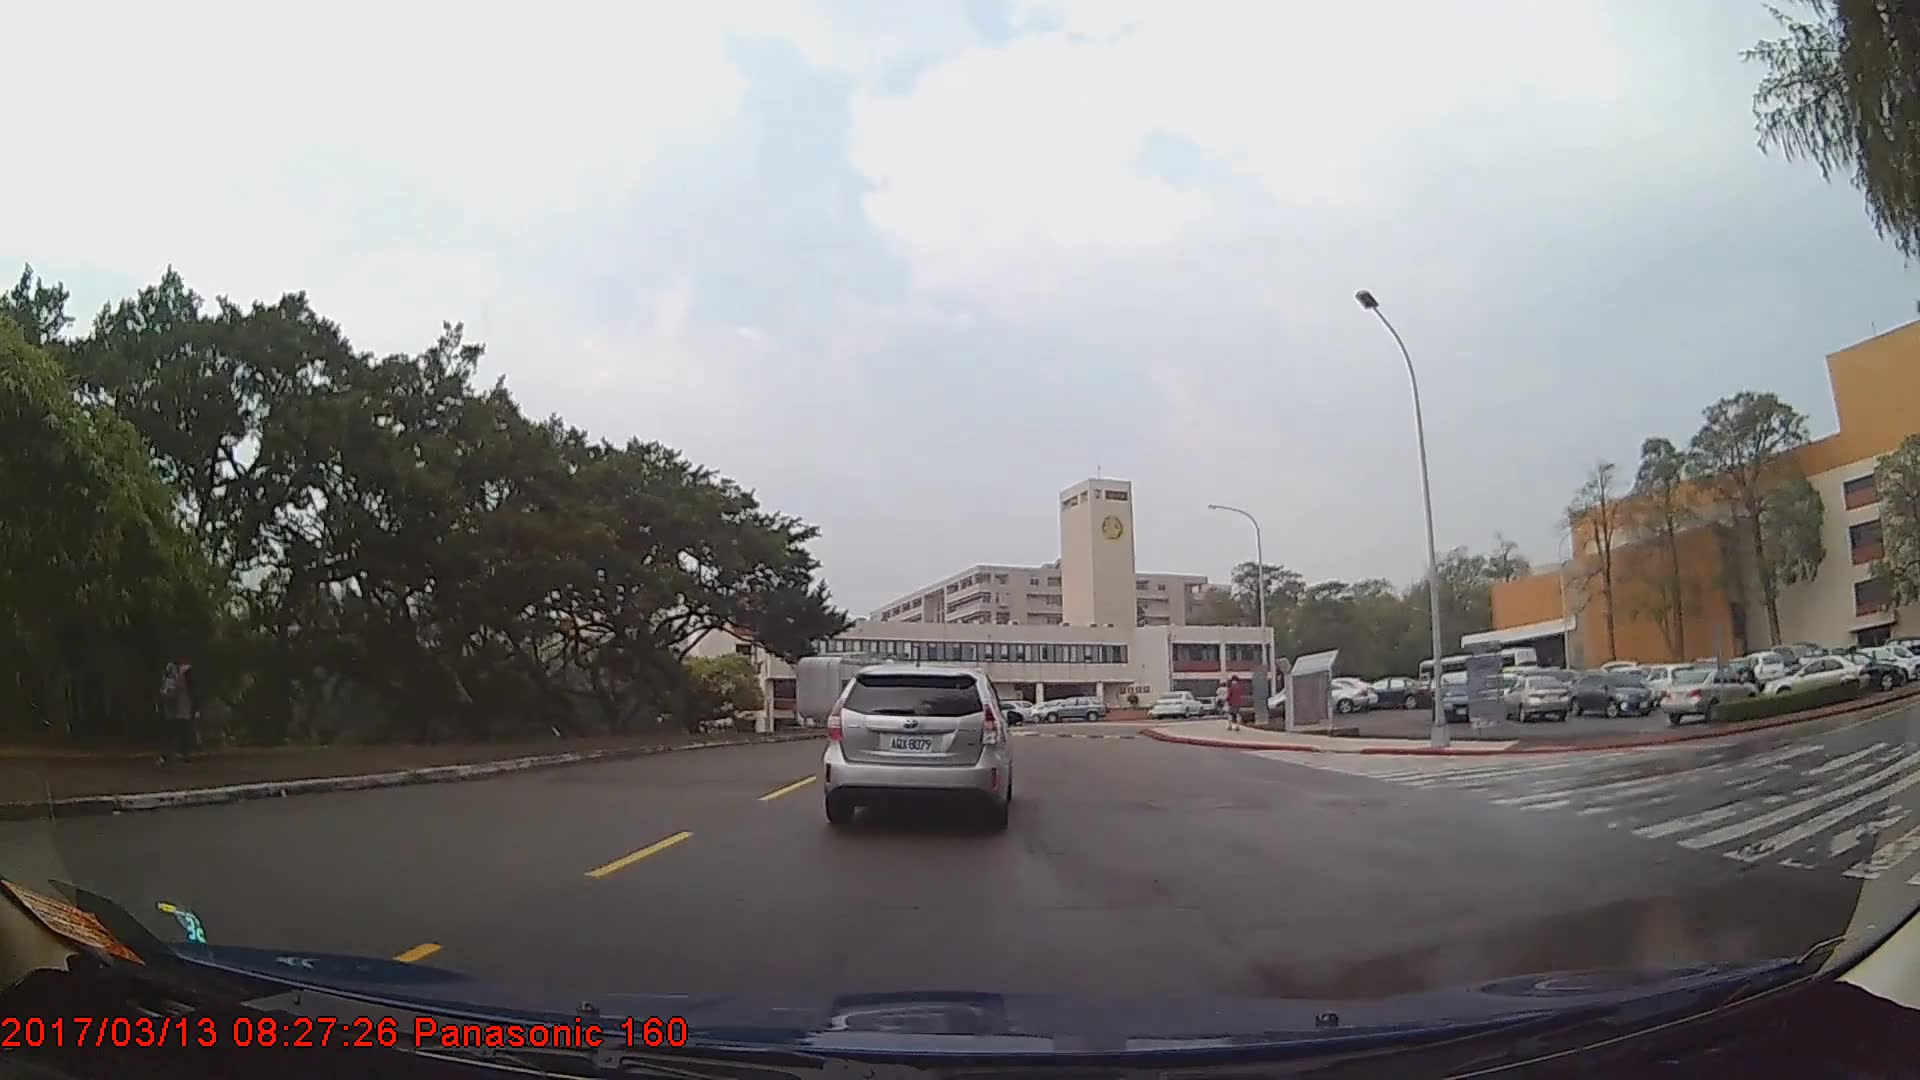pedestrian: (151, 639, 206, 767), (1225, 676, 1247, 733)
vehicle: (822, 662, 1010, 828), (1660, 663, 1759, 724), (1763, 653, 1868, 701), (1810, 647, 1903, 695), (1573, 671, 1656, 720), (1502, 672, 1572, 723), (1358, 675, 1431, 709), (1433, 679, 1486, 721), (1037, 694, 1109, 722), (1148, 689, 1205, 720)
